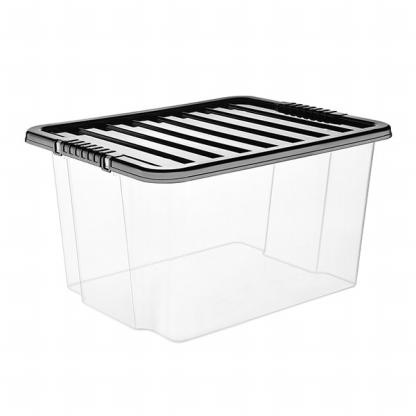plastic_box: (11, 58, 405, 356)
